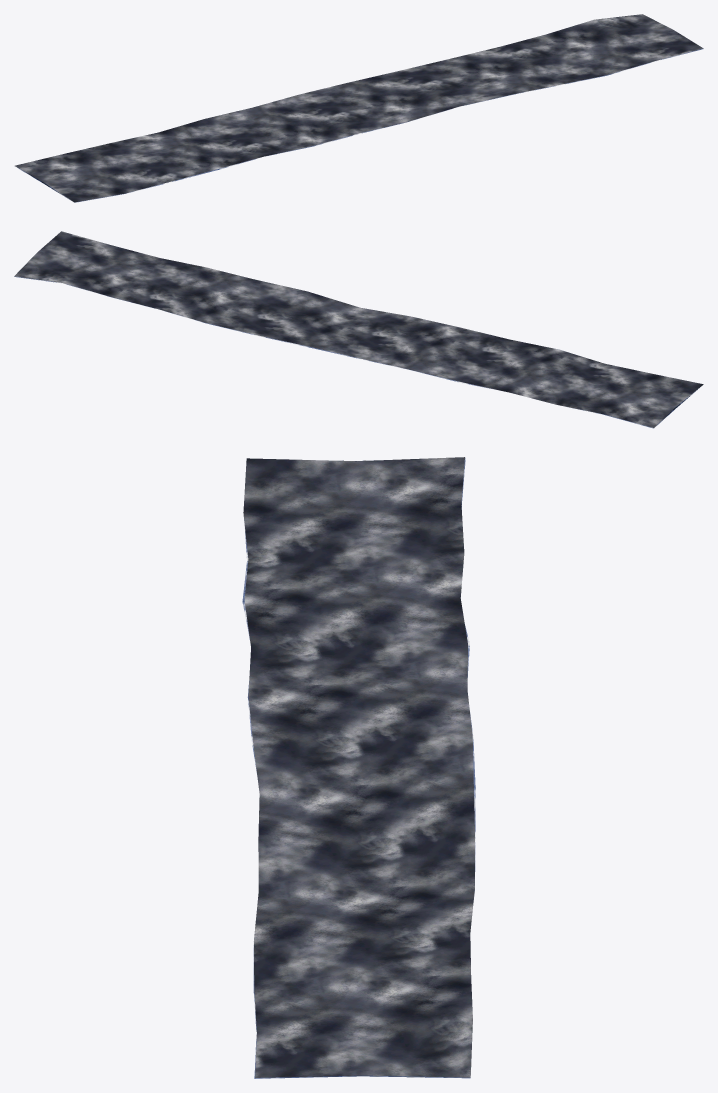
File: LONE_MOUNTAIN_WATERFALLS_MAIN_WATER_CENTER03.fbx
3 views of the same model, one above another, from view 1: azimuth 30°, elevation 25°; view 2: azimuth 150°, elevation 25°; view 3: azimuth 270°, elevation 25° (orthographic). The views are drawn at different scales.
Parts seen in each view (by area): view 1: LONE_MOUNTAIN_WATERFALLS_MAIN_WATER_CENTER03; view 2: LONE_MOUNTAIN_WATERFALLS_MAIN_WATER_CENTER03; view 3: LONE_MOUNTAIN_WATERFALLS_MAIN_WATER_CENTER03.
Part boxes in pixels (x1=…): LONE_MOUNTAIN_WATERFALLS_MAIN_WATER_CENTER03: x1=14, y1=14, x2=703, y2=202; LONE_MOUNTAIN_WATERFALLS_MAIN_WATER_CENTER03: x1=14, y1=231, x2=703, y2=428; LONE_MOUNTAIN_WATERFALLS_MAIN_WATER_CENTER03: x1=242, y1=457, x2=475, y2=1078.
Size of the model in its own units: 365111 by 3373 by 57829.
Materials: 2 (2 with a texture image).
